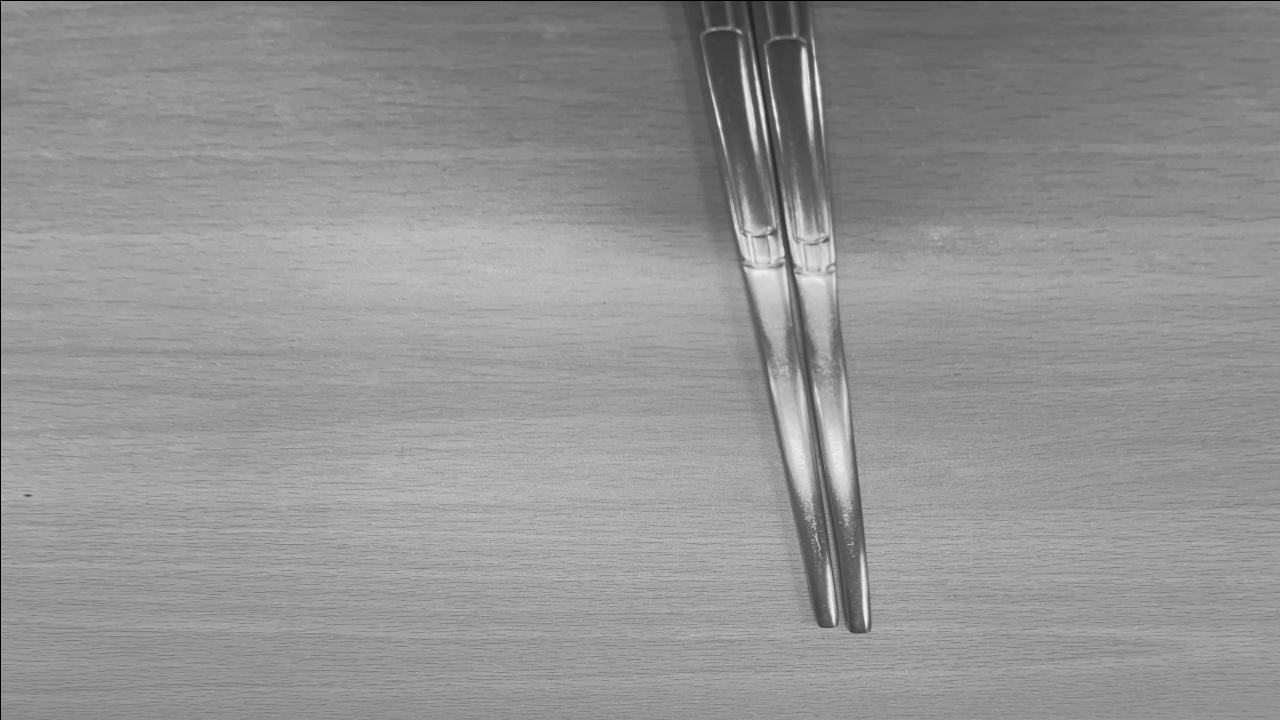chopstick: (685, 0, 865, 632)
